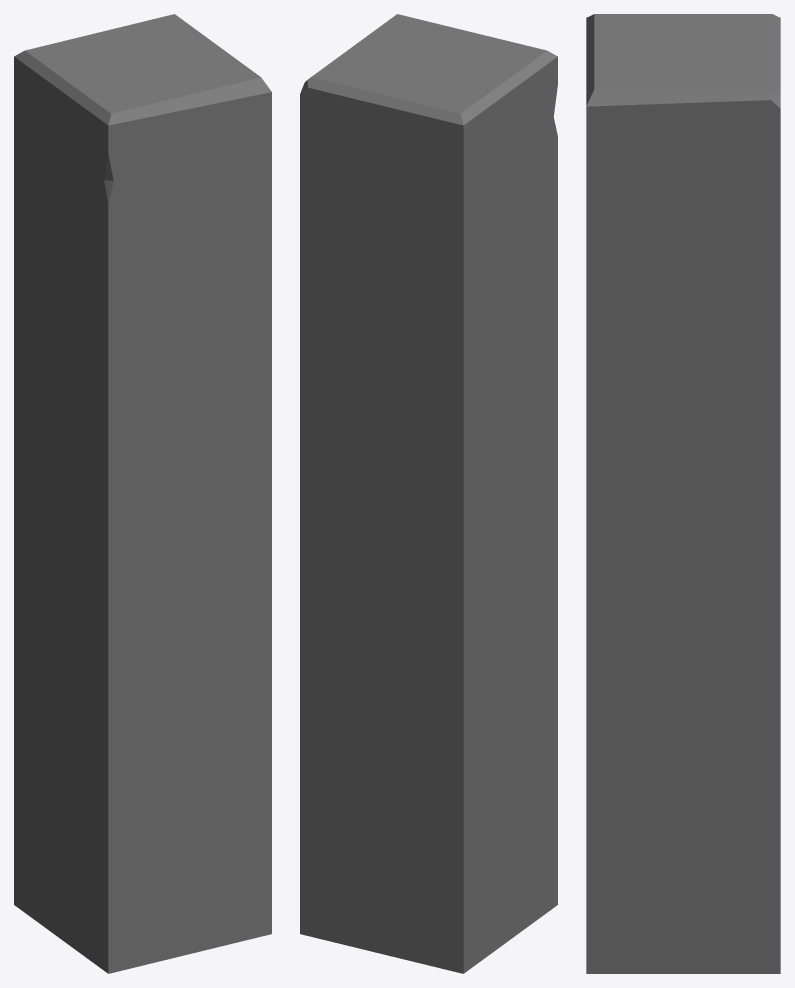
Rendered from SM_Envr_Seawall_Pillar_02.fbx.
The picture shows the model from 3 angles, left to right: view 1: azimuth 30°, elevation 25°; view 2: azimuth 150°, elevation 25°; view 3: azimuth 270°, elevation 25°; orthographic projection. The views are drawn at different scales.
Visible parts, largest first — view 1: SM_Envr_Seawall_Pillar_02; view 2: SM_Envr_Seawall_Pillar_02; view 3: SM_Envr_Seawall_Pillar_02.
Boxes of the visible parts, x1,y1,x2,y2 form: SM_Envr_Seawall_Pillar_02: [14, 14, 271, 973]; SM_Envr_Seawall_Pillar_02: [300, 14, 557, 973]; SM_Envr_Seawall_Pillar_02: [586, 14, 780, 973].
Bounding box in the file's own units: 120 × 600 × 120.
